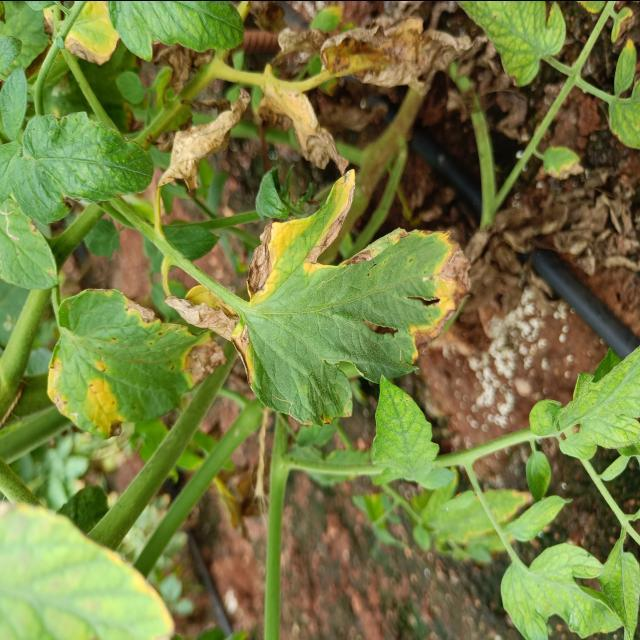Tomato mosaic virus leaf: (234, 163, 486, 434), (35, 283, 231, 442), (154, 82, 254, 210)
